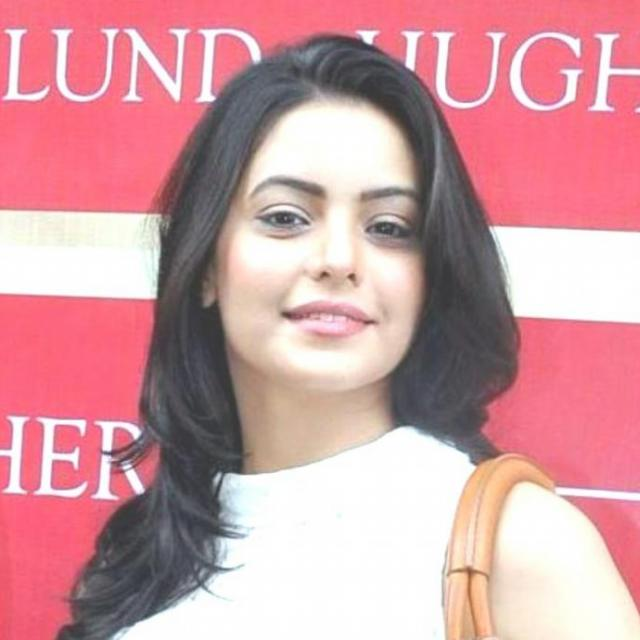live: (170, 91, 450, 406)
